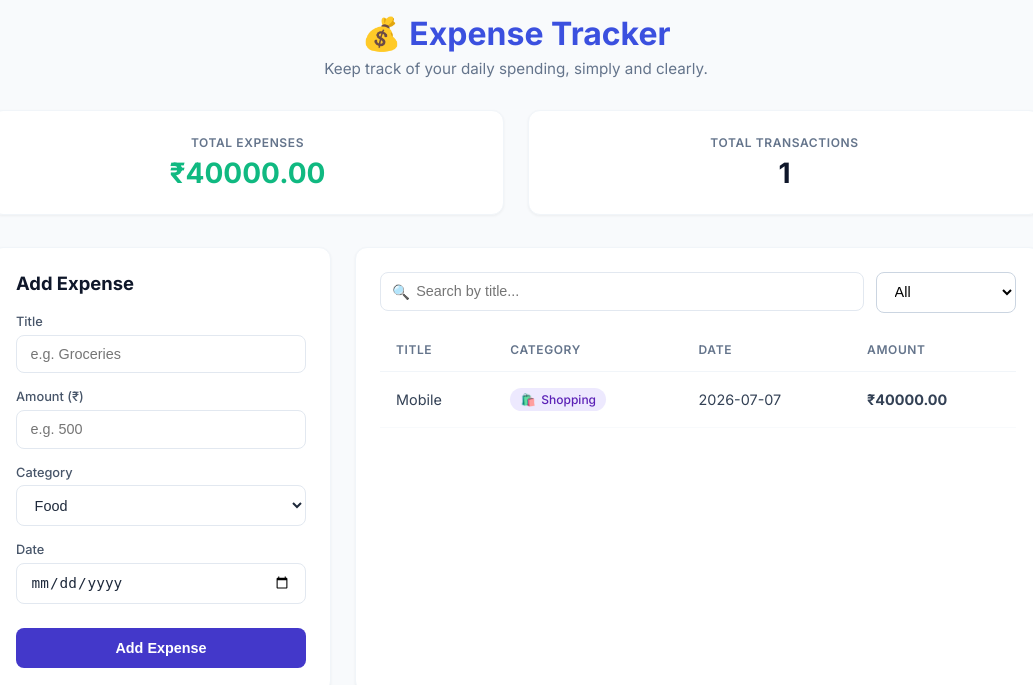
Expense Tracker App › filters items when search term is entered
Type "Nonexistent" into the field with placeholder "Search by title..." at (622, 291), box [380,272,864,311]
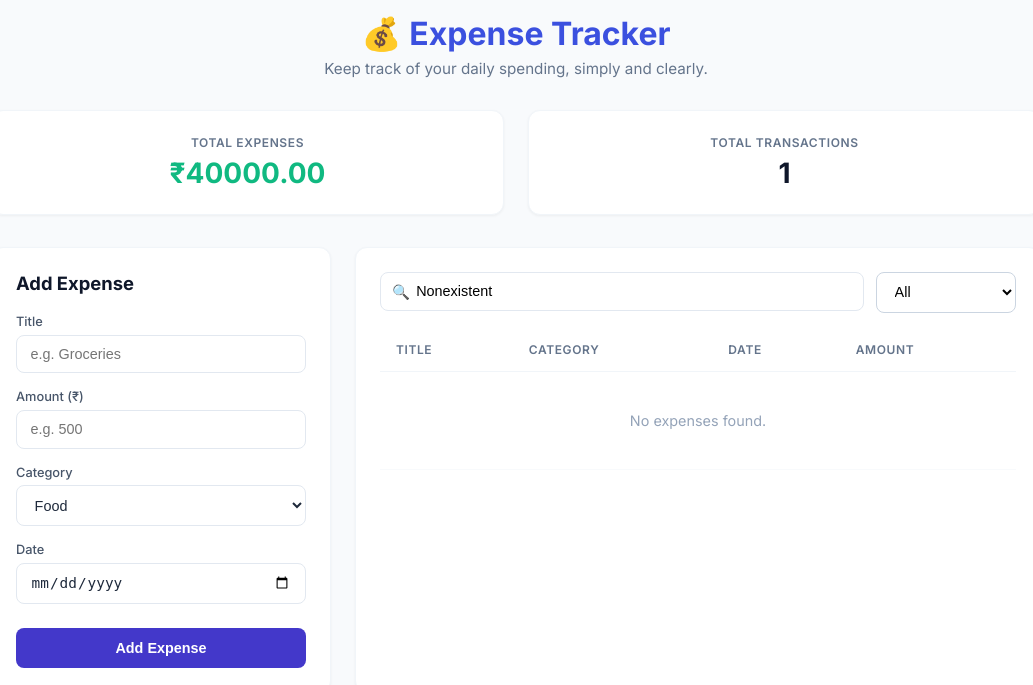
Check: the text "No expenses found." is shown, box [380,372,1016,470]
